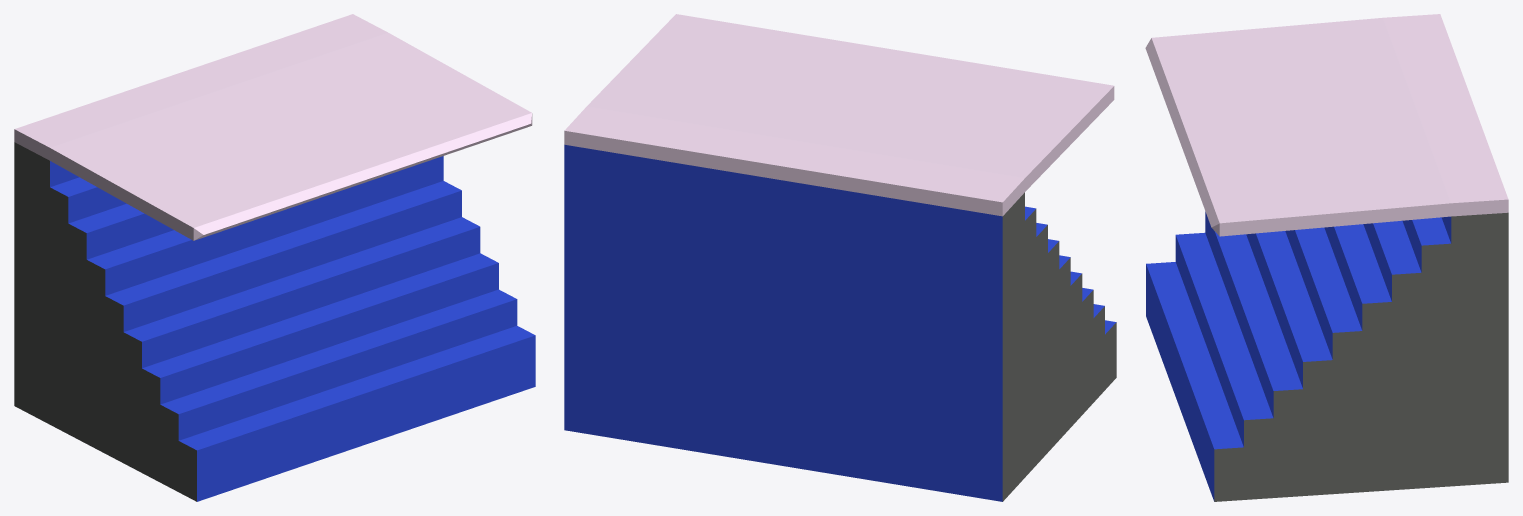
File: blue_stand.glb
3 views of the same model, side by side, from view 1: azimuth 30°, elevation 25°; view 2: azimuth 150°, elevation 25°; view 3: azimuth 270°, elevation 25° (orthographic). The views are drawn at different scales.
Visible parts, largest first — view 1: blue_stand; view 2: blue_stand; view 3: blue_stand.
Part boxes in pixels (x1,y1,x2,y2): blue_stand: (14, 14, 535, 501); blue_stand: (564, 14, 1116, 501); blue_stand: (1145, 14, 1508, 501).
Bounding box in the file's own units: 40.9 × 26.36 × 30.64.
